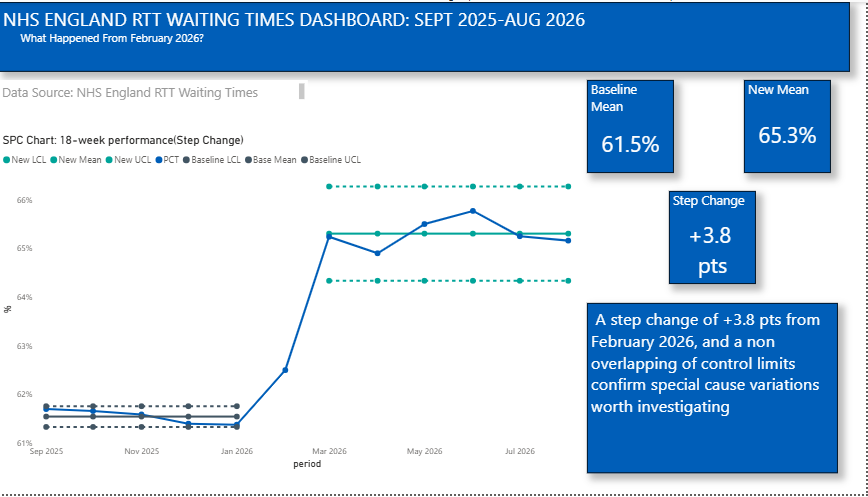

The page's visual inventory and layout, read from the dashboard file:
{"tool":"powerbi","page":{"name":"Step Change Analysis","canvas":[1280,720],"ordinal":1},"visuals":[{"type":"textbox","box":[11.8,0,1244.7,102.5],"z":0},{"type":"textbox","box":[149.5,297.3,181.4,97.4],"z":1000},{"type":"textbox","box":[11.8,114.2,451.9,33.6],"z":2000},{"type":"lineChart","title":"SPC Chart: 18-week performance(Step Change)","fields":{"Category":["rtt_spc.period"],"Y":["Sum(rtt_spc.new_lcl)","Sum(rtt_spc.new_mean)","Sum(rtt_spc.new_ucl)","Sum(rtt_spc.pct)","Sum(rtt_spc.base_lcl)","Sum(rtt_spc.base_mean)","Sum(rtt_spc.base_ucl)"]},"box":[11.8,191.5,860.1,497.2],"z":3000},{"type":"textbox","box":[872.2,440.5,367.3,248.8],"z":4000},{"type":"card","title":"Baseline Mean","fields":{"Values":["rtt_powerbi.Baseline Mean"]},"box":[872.2,114.1,127.3,136.1],"z":5000},{"type":"card","title":"New Mean","fields":{"Values":["rtt_powerbi.New Mean"]},"box":[1102,114.1,127.3,136.1],"z":6000},{"type":"card","title":"Step Change","fields":{"Values":["rtt_powerbi.Step Change"]},"box":[992.2,276.6,127.3,136.1],"z":7000}]}

Visuals, with their boxes in screenshot pixels (x1, y1, x2, y2), scaled from the page's 1280x720 canvas onto the 868x497 screenshot:
textbox: bbox=[8, 0, 852, 71]
textbox: bbox=[101, 205, 224, 272]
textbox: bbox=[8, 79, 314, 102]
"SPC Chart: 18-week performance(Step Change)" lineChart: bbox=[8, 132, 591, 475]
textbox: bbox=[591, 304, 841, 476]
"Baseline Mean" card: bbox=[591, 79, 678, 173]
"New Mean" card: bbox=[747, 79, 834, 173]
"Step Change" card: bbox=[673, 191, 759, 285]
